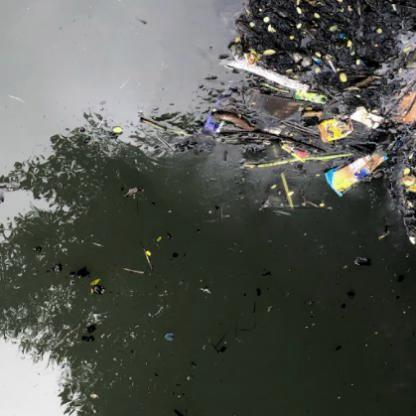Trash: (322, 145, 392, 202)
